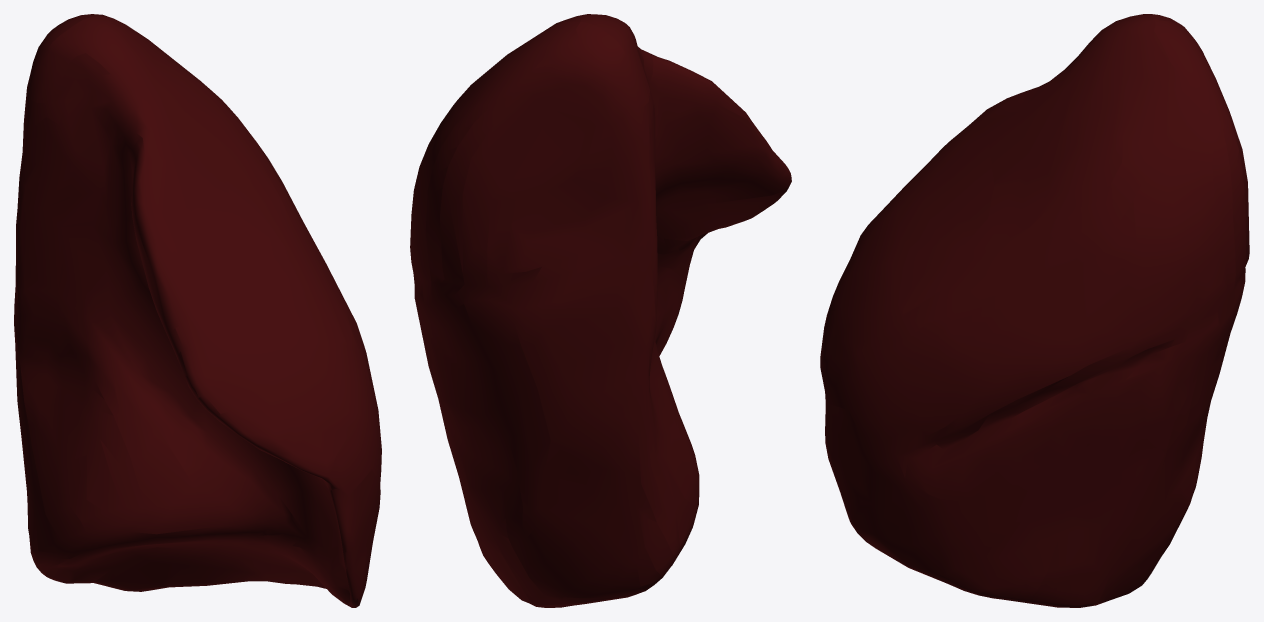
Rendered from organs_lung_left.obj.
3 views of the same model, side by side, from view 1: azimuth 30°, elevation 25°; view 2: azimuth 150°, elevation 25°; view 3: azimuth 270°, elevation 25° (orthographic). The views are drawn at different scales.
Parts seen in each view (by area): view 1: Lung_left_polySurface1.001; view 2: Lung_left_polySurface1.001; view 3: Lung_left_polySurface1.001.
Part boxes in pixels (x1,y1,x2,y2): Lung_left_polySurface1.001: (14,14,381,607); Lung_left_polySurface1.001: (410,14,791,607); Lung_left_polySurface1.001: (820,14,1249,607).
Size of the model in its own units: 12.08 by 25.97 by 18.69.
